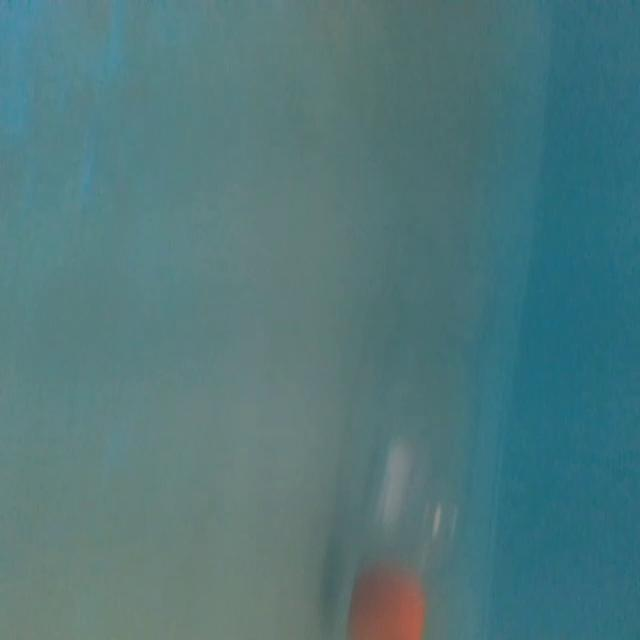plastic bottle: (333, 201, 500, 640)
